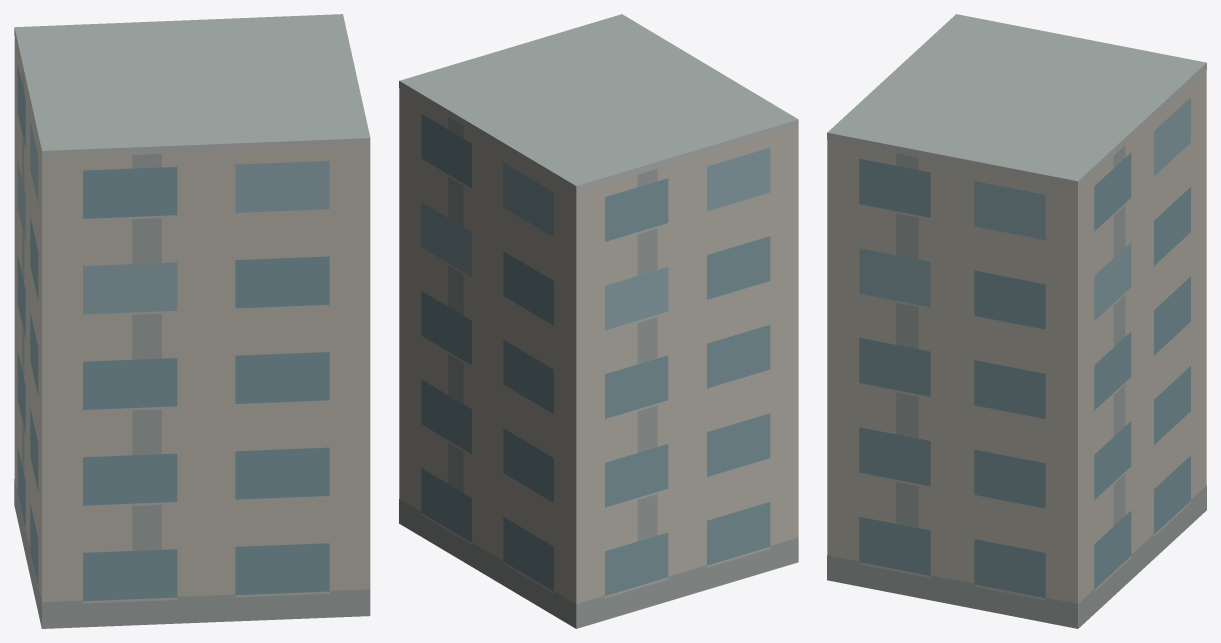
File: residential-4ed91197-f700-4265-8272-936b3cf96727.glb
3 renders of one model, left to right at view 1: azimuth 30°, elevation 25°; view 2: azimuth 150°, elevation 25°; view 3: azimuth 270°, elevation 25°, orthographic. The views are drawn at different scales.
Visible parts, largest first — view 1: residential-4ed91197-f700-4265-8272-936b3cf96727.tmp; view 2: residential-4ed91197-f700-4265-8272-936b3cf96727.tmp; view 3: residential-4ed91197-f700-4265-8272-936b3cf96727.tmp.
Part boxes in pixels (bbox=[...]): residential-4ed91197-f700-4265-8272-936b3cf96727.tmp: bbox=[14, 14, 370, 628]; residential-4ed91197-f700-4265-8272-936b3cf96727.tmp: bbox=[399, 14, 798, 628]; residential-4ed91197-f700-4265-8272-936b3cf96727.tmp: bbox=[827, 14, 1206, 628].
Bounding box in the file's own units: 12.23 × 15.25 × 11.73.
